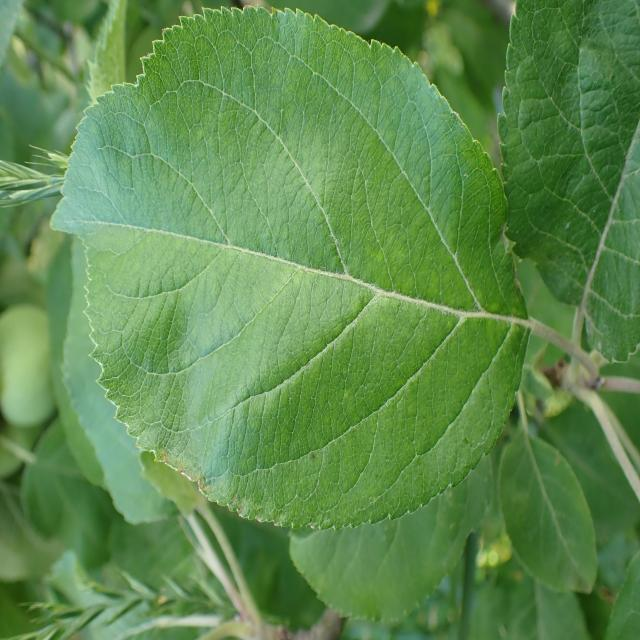healthy: (48, 4, 531, 534), (496, 0, 639, 363), (287, 437, 504, 626), (497, 432, 598, 594)
